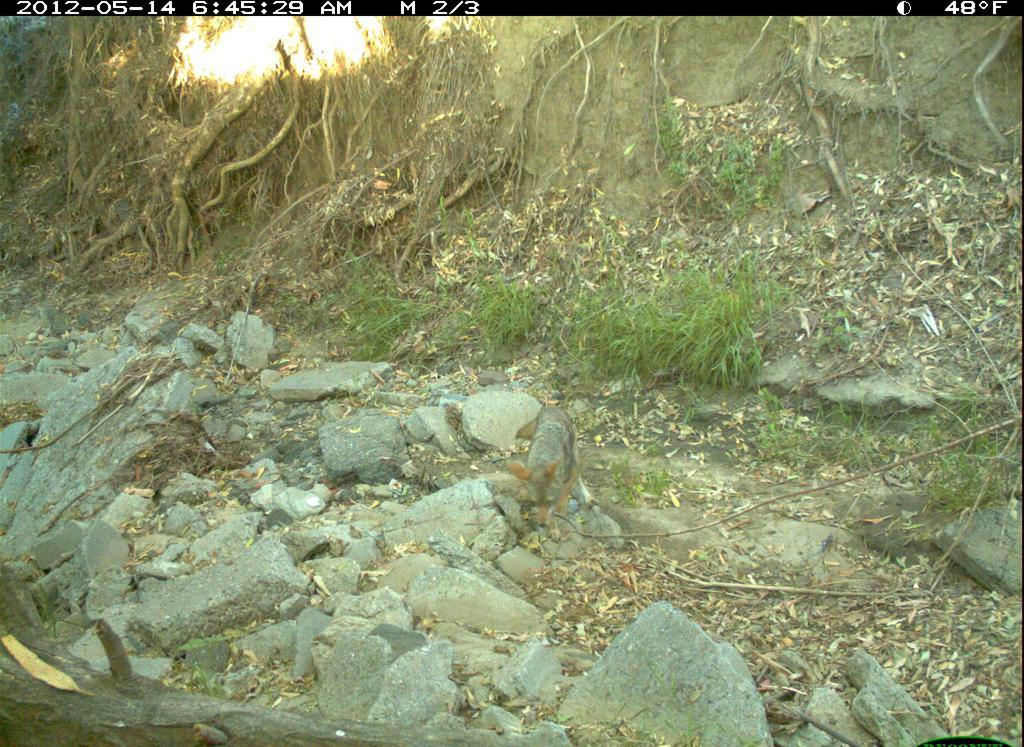coyote: (507, 393, 594, 556)
